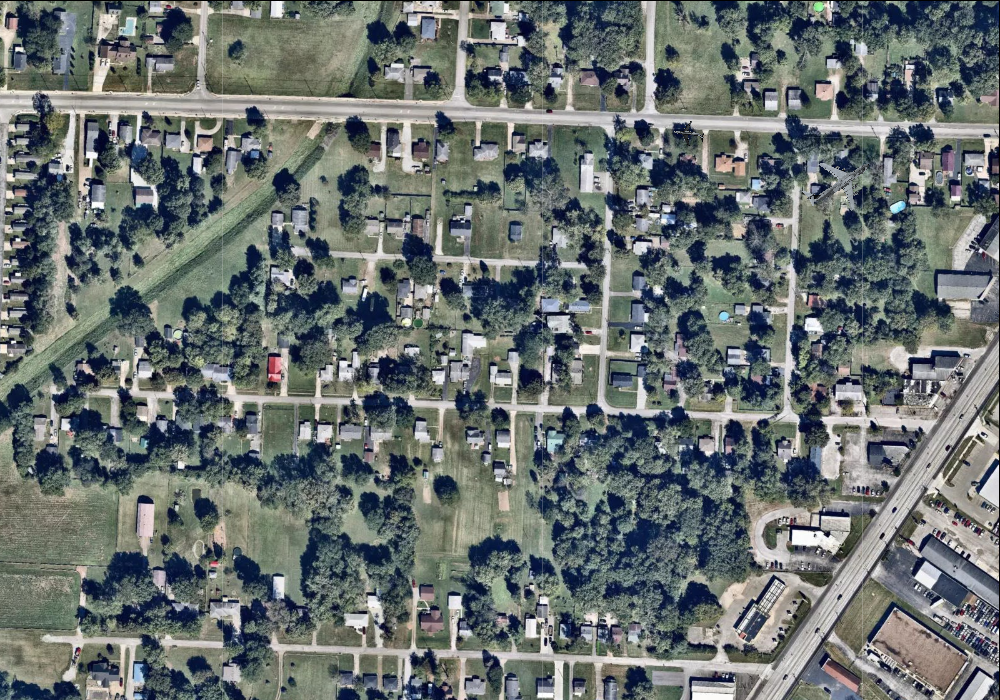plane: (789, 134, 886, 230), (671, 117, 705, 150)
